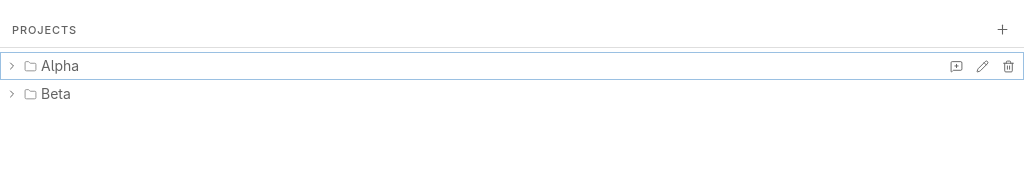
ProjectTree › adds a chat under a project
Expected: the list item "Alpha" is shown, 0,52 -> 1023,80
Click the button named "new chat in alpha" at [956, 66], box 944,54 -> 968,78
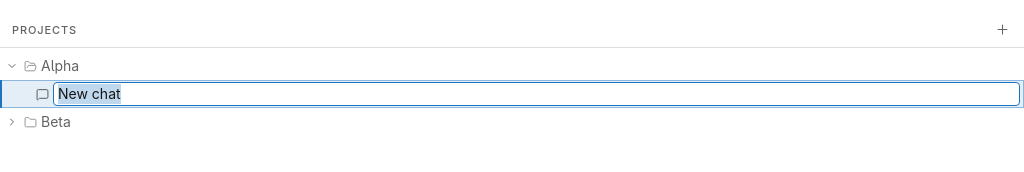
Replace the text in the field named "rename chat" with "Unit roots" at [536, 94], box 53,82 -> 1020,106
Then press Enter
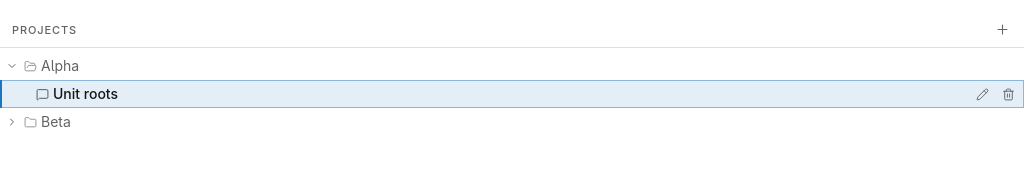
Expected: the list item "Unit roots" is shown, 0,80 -> 1023,108
